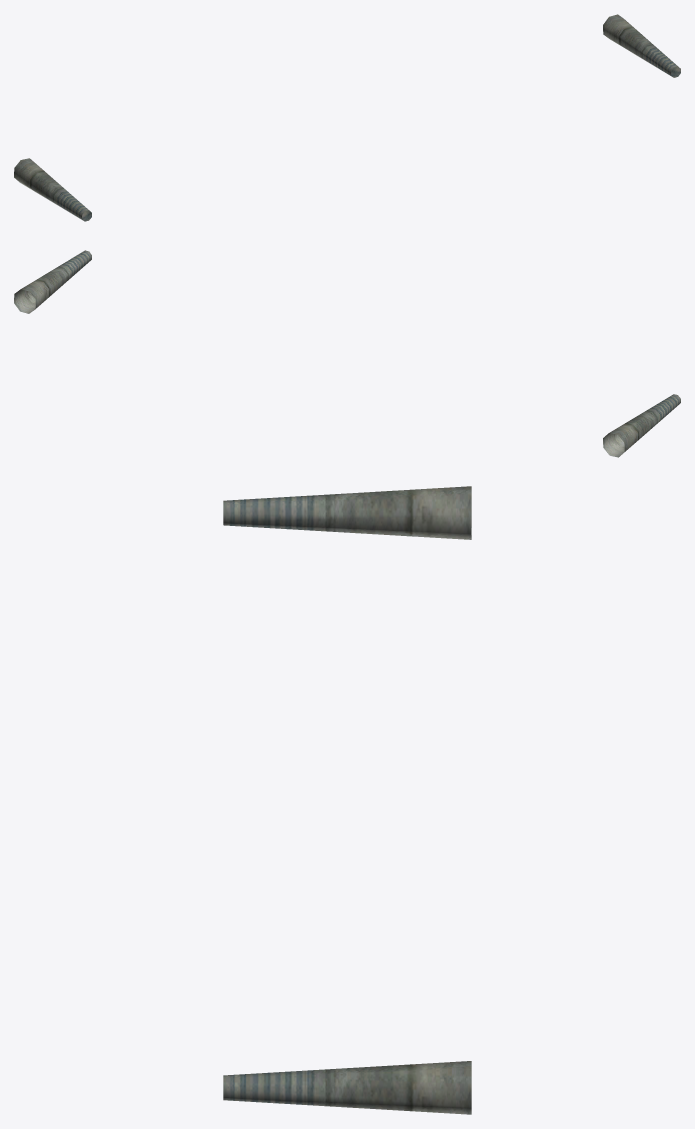
Rendered from hutt_fighter_medium_weapon2_s01_l0.fbx.
The picture shows the model from 3 angles, top to bottom: view 1: azimuth 30°, elevation 25°; view 2: azimuth 150°, elevation 25°; view 3: azimuth 270°, elevation 25°; orthographic projection. The views are drawn at different scales.
Parts seen in each view (by area): view 1: mesh_node; view 2: mesh_node; view 3: mesh_node.
Boxes of the visible parts, <box> form: mesh_node: <box>14,14,680,221</box>; mesh_node: <box>14,250,680,457</box>; mesh_node: <box>223,486,471,1114</box>.
Size of the model in its own units: 3.13 by 0.112 by 0.5522.
